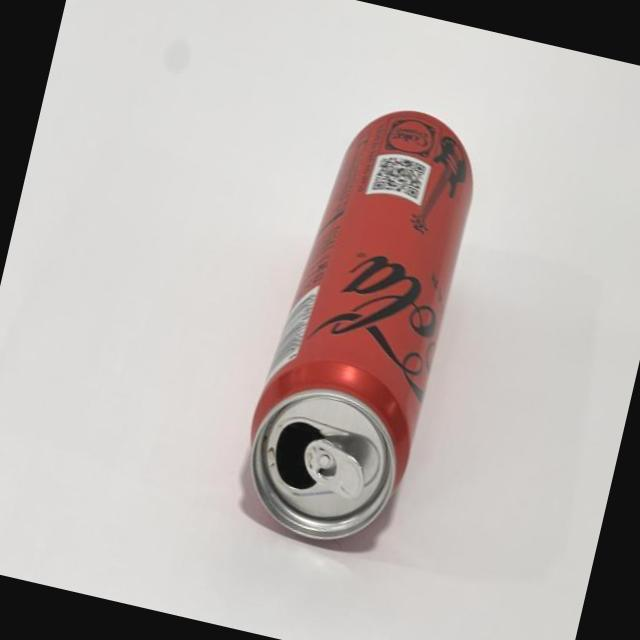can: (223, 87, 495, 562)
